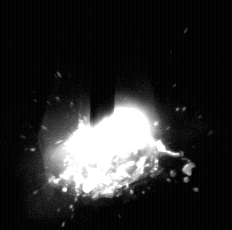arame: (91, 0, 116, 127)
poca: (37, 0, 167, 230)
